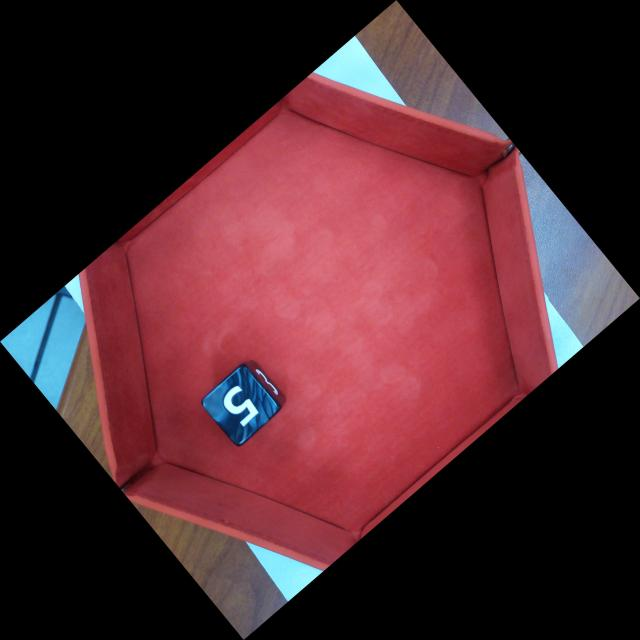dice: (204, 362, 287, 448)
